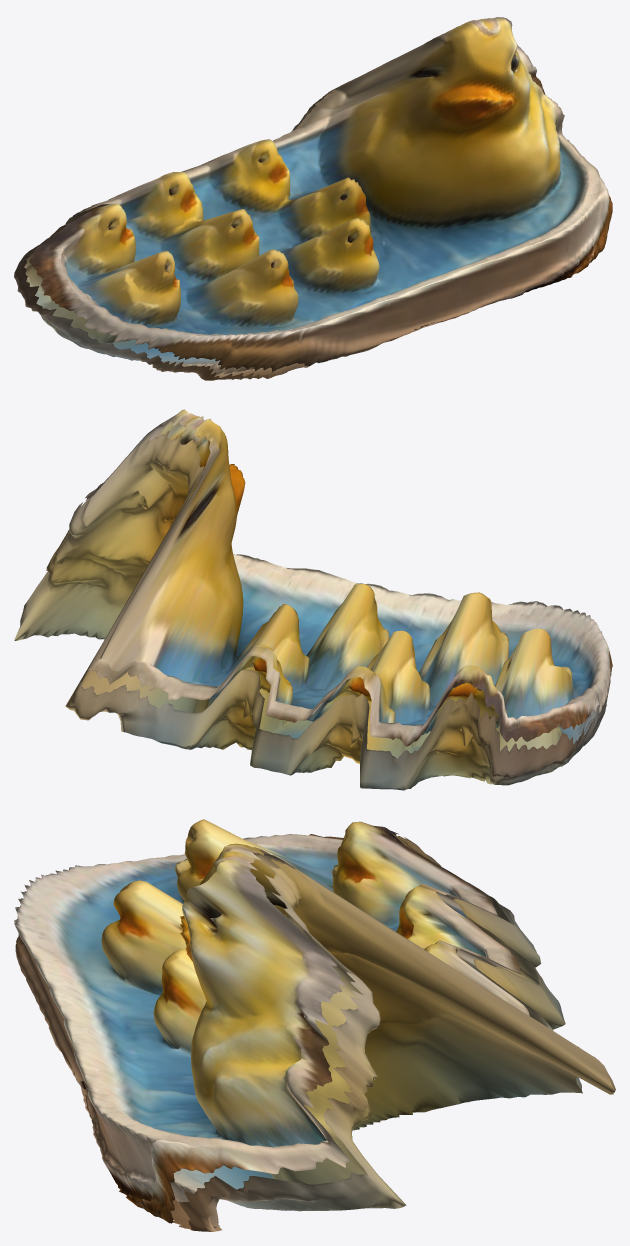
The model's file is 11-duck-pond.glb.
3 views of the same model, one above another, from view 1: azimuth 30°, elevation 25°; view 2: azimuth 150°, elevation 25°; view 3: azimuth 270°, elevation 25° (orthographic). The views are drawn at different scales.
Bounding box in the file's own units: 0.9824 × 0.4061 × 0.708.
Materials: 1 (1 with a texture image).
